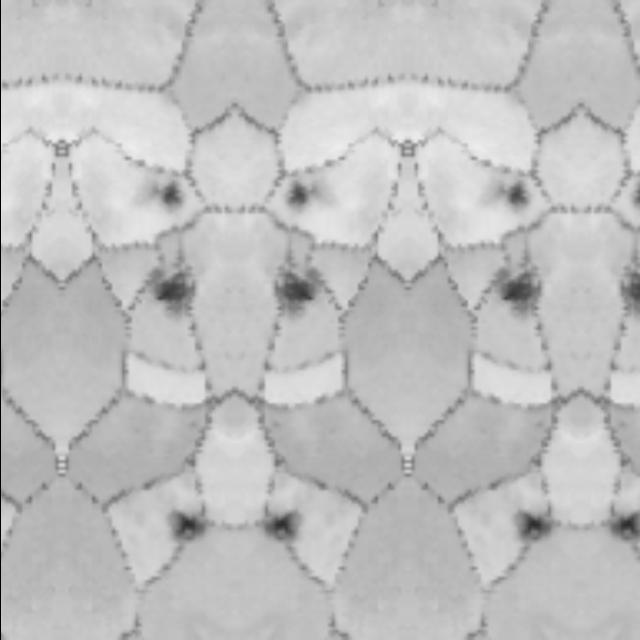good_void: (260, 260, 333, 329), (134, 260, 206, 329), (480, 260, 552, 329), (245, 496, 315, 561), (154, 496, 215, 559), (501, 496, 562, 559), (609, 261, 640, 325), (285, 183, 310, 210), (155, 183, 180, 209), (502, 183, 526, 209), (633, 183, 640, 206)
